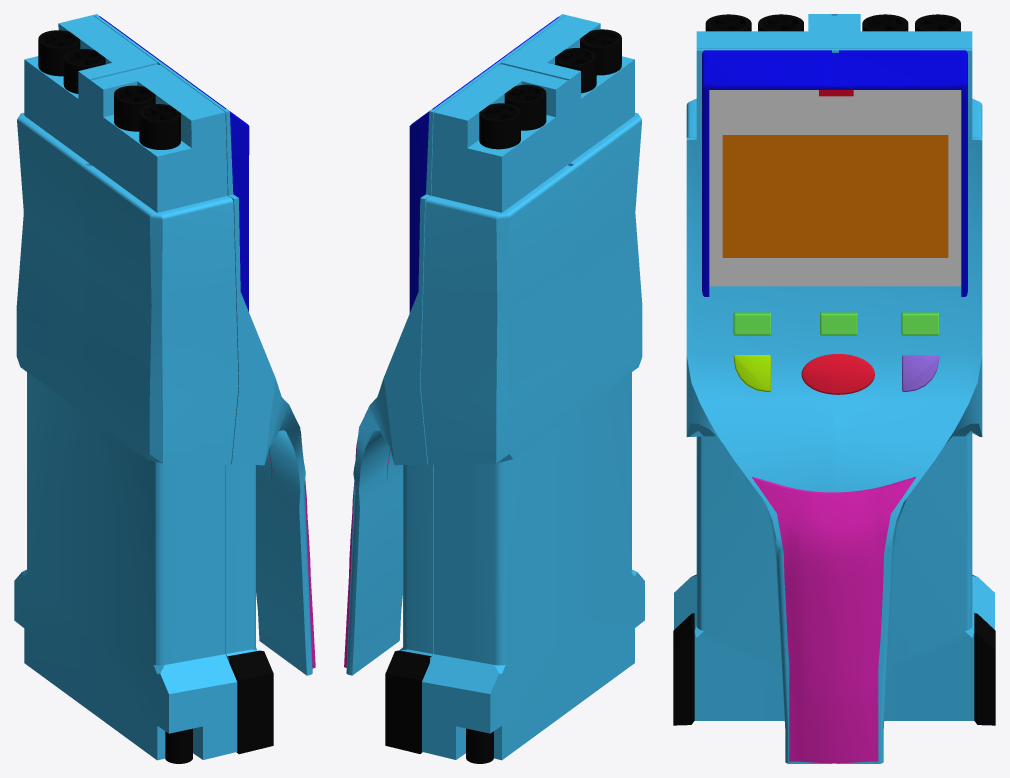
File: _andscanner.fbx
3 renders of one model, left to right at view 1: azimuth 30°, elevation 25°; view 2: azimuth 150°, elevation 25°; view 3: azimuth 270°, elevation 25°, orthographic. The views are drawn at different scales.
Parts seen in each view (by area): view 1: Cube.005, Cylinder, Cube.006, Cube.001; view 2: Cube.005, Cylinder, Cube.006, Cube.001; view 3: Cube.005, Cube.008, Cube.001, Cube.007, Cube.006, Cylinder, Cube.023, Cylinder.006, Cube.025, Cube.024.
Part boxes in pixels (x1,y1,x2,y2): Cube.005: (14,14,312,760); Cylinder: (38,30,273,763); Cube.006: (99,16,249,311); Cube.001: (269,431,315,668); Cube.005: (346,14,644,760); Cylinder: (385,29,621,763); Cube.006: (409,16,559,312); Cube.001: (344,437,390,667); Cube.005: (674,14,994,763); Cube.008: (722,135,948,257); Cube.001: (752,476,915,763); Cube.007: (709,90,961,286); Cube.006: (702,50,967,296); Cylinder: (673,14,995,725); Cube.023: (733,312,939,335); Cylinder.006: (801,354,874,394); Cube.025: (902,355,939,391); Cube.024: (733,355,770,391).
Bounding box in the file's own units: 142 × 403 × 179.
